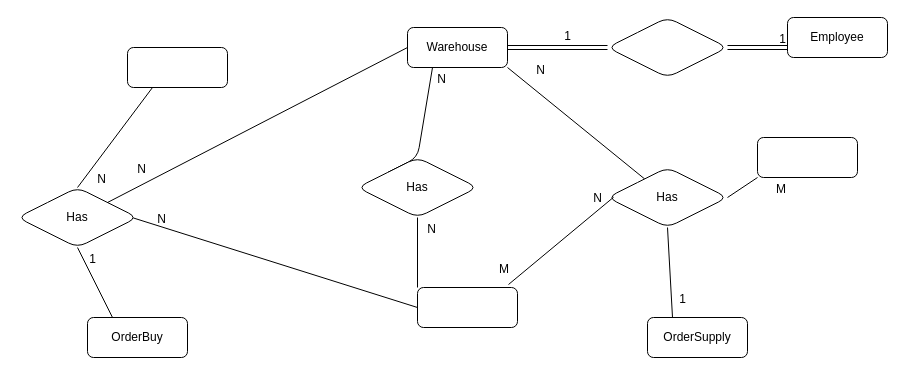
The diagram is 905 pixels wide and 375 high, and some of its shapes have lost their labels. Each missing label, with the centre of its shape:
"custmoer" belongs at point 177,67.
"Items" belongs at point 467,307.
"Supervisor" belongs at point 667,47.
"Supplier" belongs at point 807,157.
